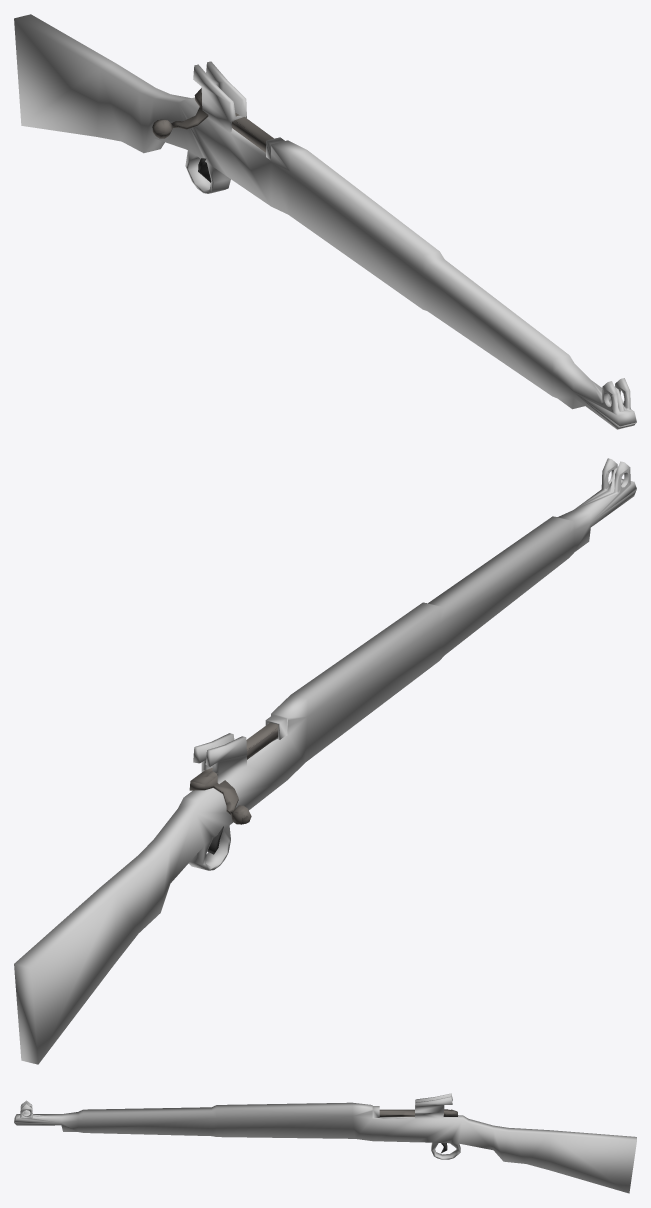
The model's file is m1917enfield.fbx.
The picture shows the model from 3 angles, top to bottom: view 1: azimuth 30°, elevation 25°; view 2: azimuth 150°, elevation 25°; view 3: azimuth 270°, elevation 25°; orthographic projection. The views are drawn at different scales.
Visible parts, largest first — view 1: Plane_001, Plane_000; view 2: Plane_001, Plane_000; view 3: Plane_001, Plane_000.
Part boxes in pixels (bbox=[...]): Plane_001: bbox=[14, 14, 636, 429]; Plane_000: bbox=[152, 88, 273, 152]; Plane_001: bbox=[14, 458, 636, 1064]; Plane_000: bbox=[189, 722, 278, 824]; Plane_001: bbox=[14, 1093, 636, 1193]; Plane_000: bbox=[379, 1109, 457, 1116].
Size of the model in its own units: 0.6699 by 2.11 by 12.38.
